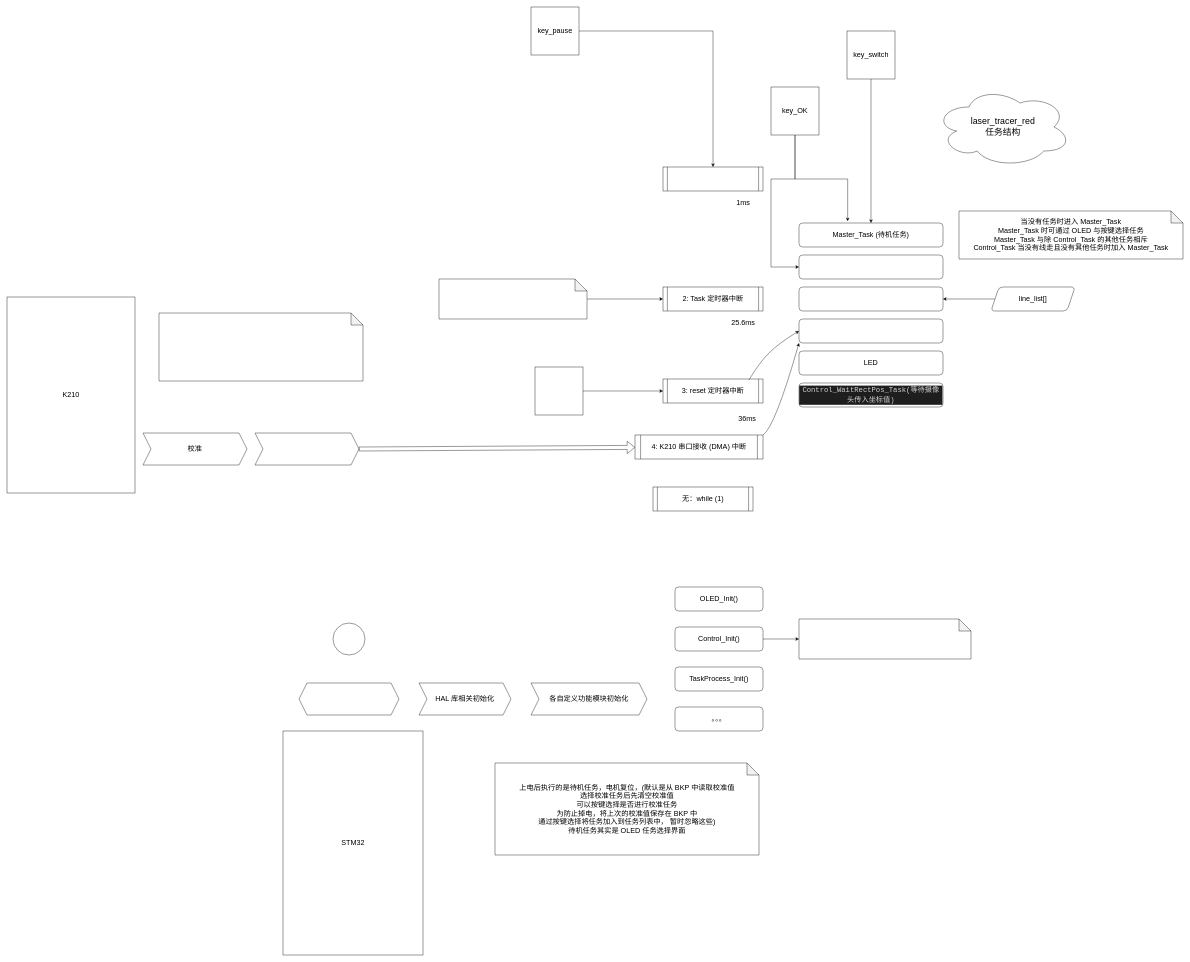
The diagram is 1190 pixels wide and 962 high, and some of its shapes have lost their labels. Each missing label, with the centre of its shape:
"(判断 BKP 中有无记录值 有则使用记录值 无则使用默认值并在 OLED 中指示) 忽略" goes at point 885,639.
"0: SysTick 中断" goes at point 713,179.
"Adjust_Task(校准任务)" goes at point 871,267.
"Control_Task (一直查看有没有要走的线)" goes at point 871,299.
"Control_WalkLine_Task (走线任务)" goes at point 871,331.
"find_rects()，串口发送" goes at point 307,449.
"key_reset" goes at point 559,391.
"上电" goes at point 349,639.
"初始化" goes at point 349,699.
"在 STM32 校准时，K210 也要跟着校准 校准后的 K210 一直发送矩形框的顶点 (可以多次取平均值) 简单按键控制" goes at point 261,347.
"要使用暂停功能可以直接暂停该定时器" goes at point 513,299.
